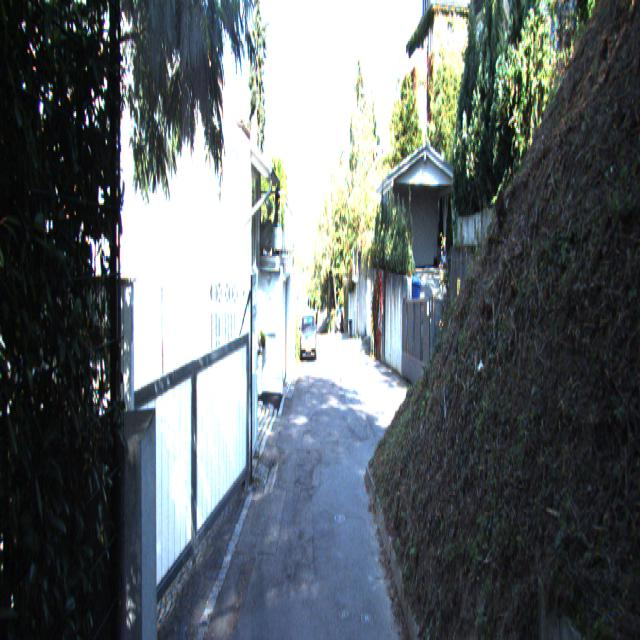Car: (300, 312, 316, 363)
